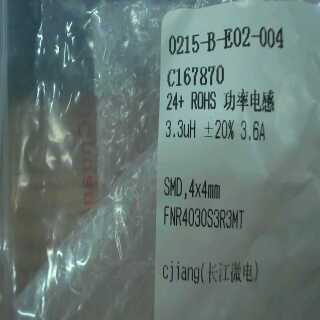3.3uH: (164, 113, 198, 146)
